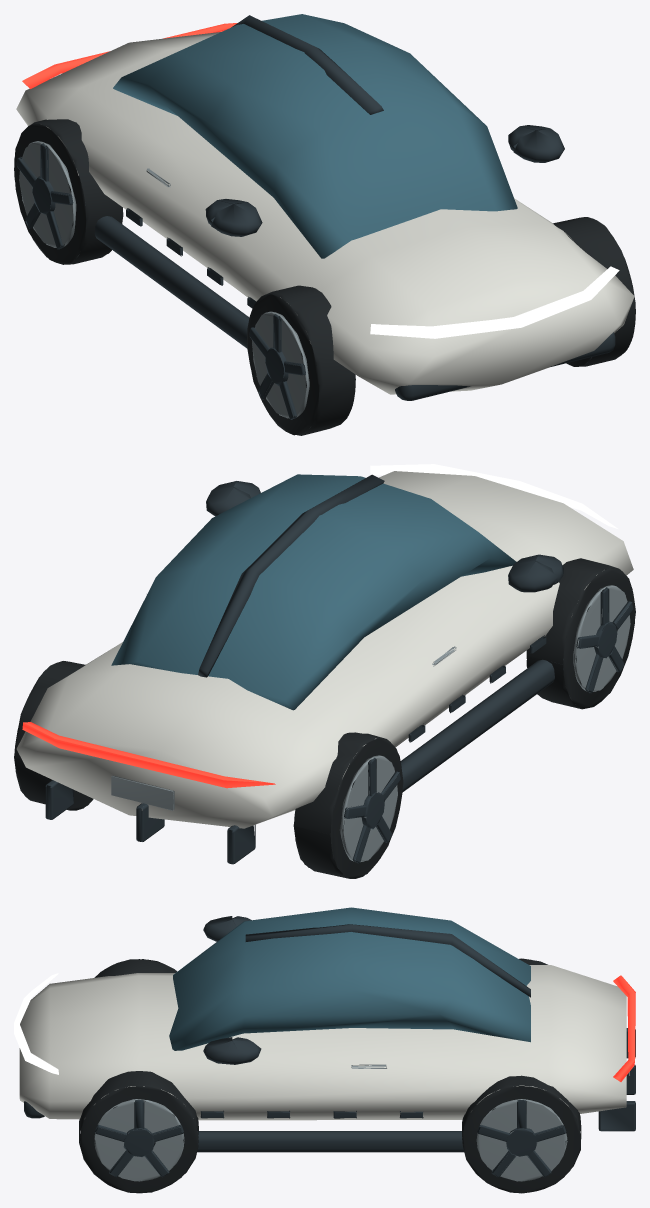
File: sentinel-sedan-lod.glb
The picture shows the model from 3 angles, top to bottom: view 1: azimuth 30°, elevation 25°; view 2: azimuth 150°, elevation 25°; view 3: azimuth 270°, elevation 25°; orthographic projection. The views are drawn at different scales.
Visible parts, largest first — view 1: NC ceramic ivory.006, NC sapphire glazing.006, NC tire, NC graphite.006, NC brushed titanium.006, NC headlamp, NC tail.006; view 2: NC ceramic ivory.006, NC sapphire glazing.006, NC graphite.006, NC tire, NC brushed titanium.006, NC tail.006, NC headlamp; view 3: NC ceramic ivory.006, NC sapphire glazing.006, NC graphite.006, NC tire, NC brushed titanium.006, NC tail.006, NC headlamp.
Part boxes in pixels (box(x1,y1,x2,y2)): NC ceramic ivory.006: box(16, 32, 634, 394); NC sapphire glazing.006: box(113, 14, 517, 258); NC tire: box(14, 119, 635, 435); NC graphite.006: box(16, 15, 615, 419); NC brushed titanium.006: box(19, 141, 309, 418); NC headlamp: box(370, 266, 619, 338); NC tail.006: box(22, 23, 237, 88); NC ceramic ivory.006: box(16, 471, 633, 828); NC sapphire glazing.006: box(111, 474, 516, 710); NC graphite.006: box(45, 474, 633, 864); NC tire: box(14, 558, 635, 878); NC brushed titanium.006: box(111, 585, 630, 861); NC tail.006: box(22, 722, 275, 788); NC headlamp: box(370, 464, 617, 528); NC ceramic ivory.006: box(19, 965, 626, 1120); NC sapphire glazing.006: box(169, 907, 530, 1050); NC graphite.006: box(24, 916, 635, 1177); NC tire: box(79, 958, 581, 1193); NC brushed titanium.006: box(94, 1064, 630, 1181); NC tail.006: box(613, 975, 635, 1081); NC headlamp: box(14, 973, 58, 1074).
Size of the model in its own units: 2.48 by 1.72 by 4.68.
